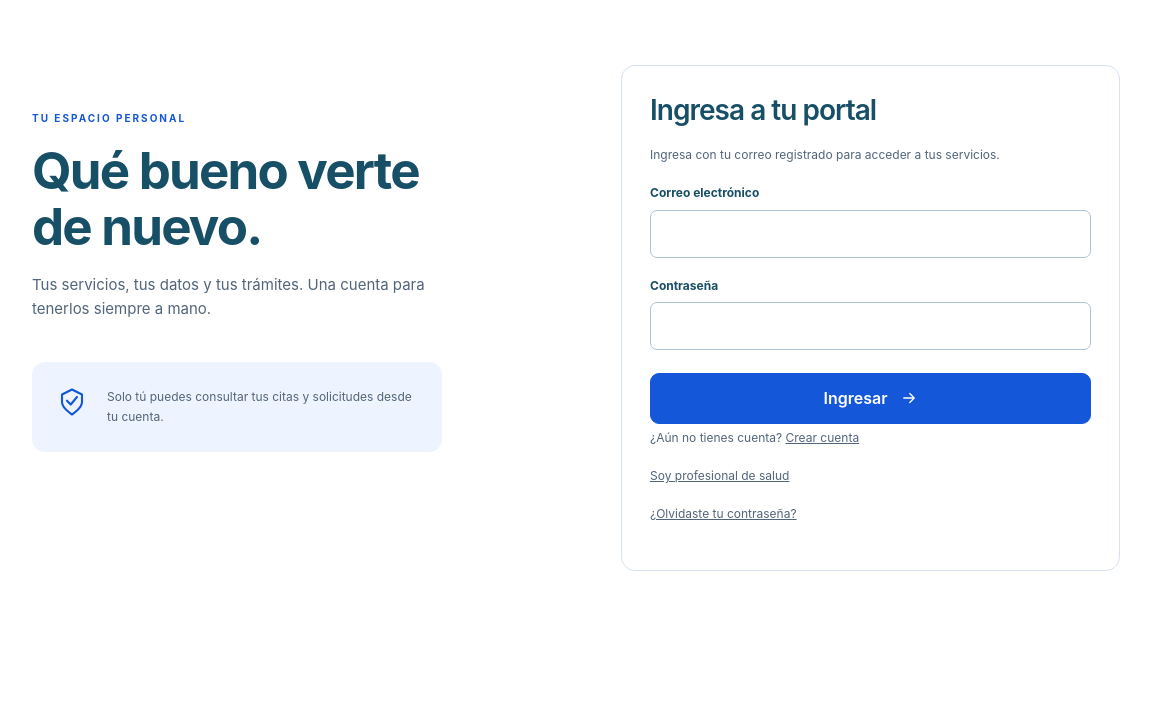
Test: formulario BOGOBIKER adaptado: valida el acceso vacío
Click the button "Ingresar".
click(870, 398)  # box [650,373,1091,424]
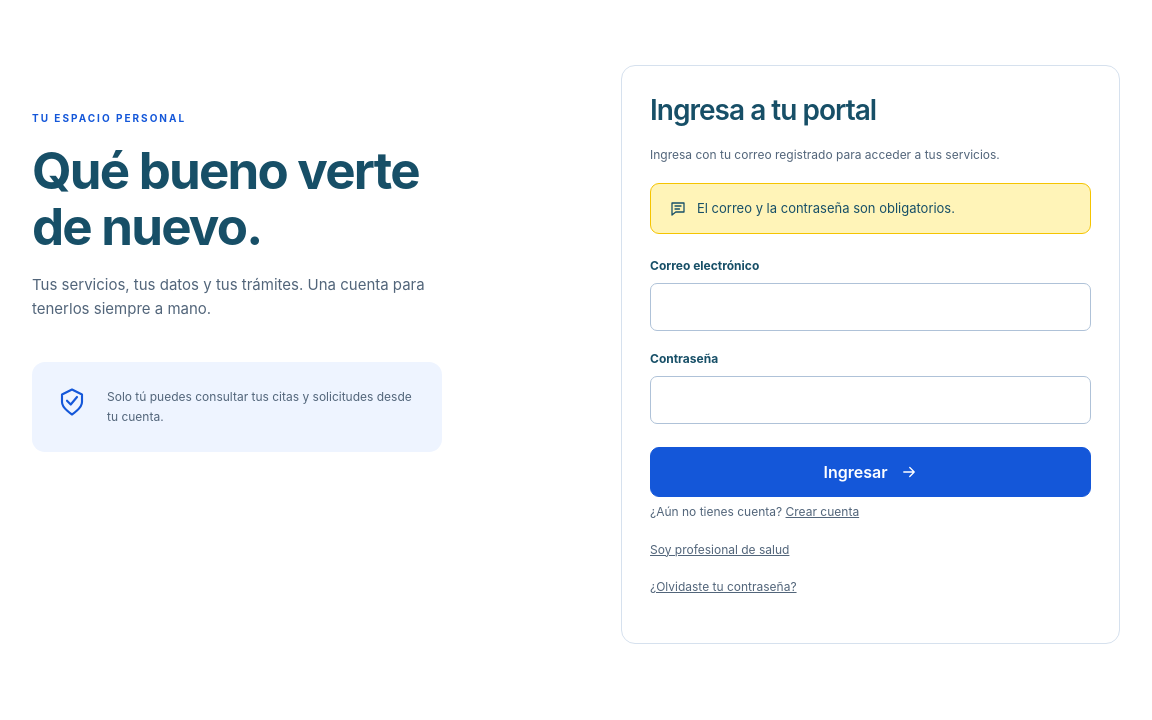
Now the message reads "El correo y la contraseña son obligatorios.", box [697,200,955,216]
